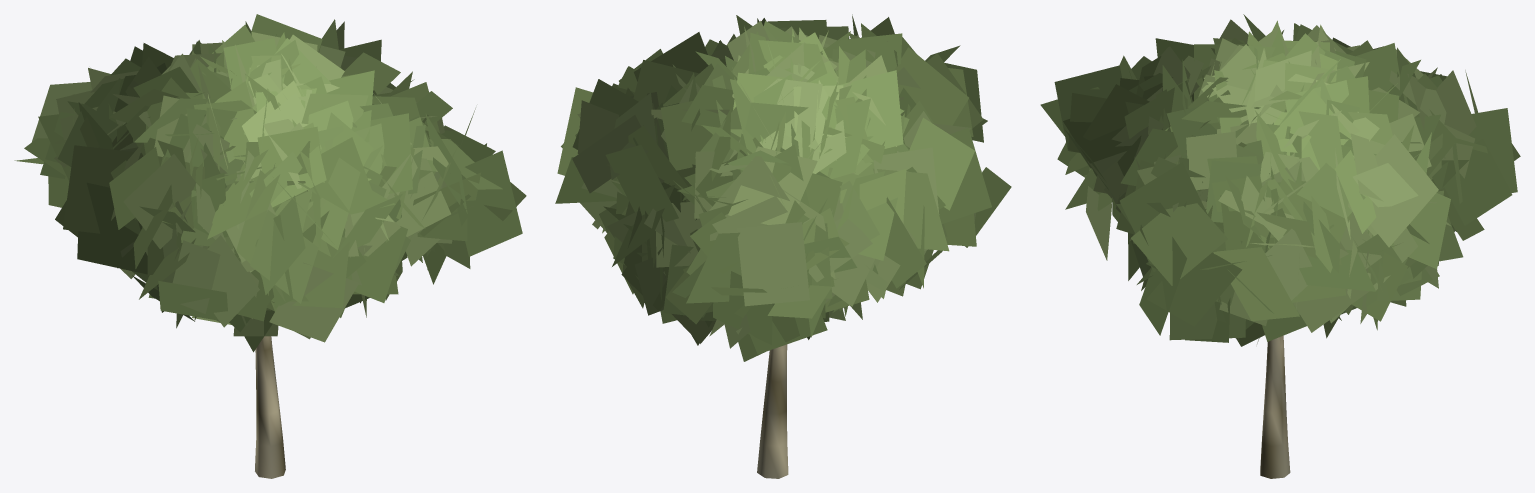
3 views of the same model, side by side, from view 1: azimuth 30°, elevation 25°; view 2: azimuth 150°, elevation 25°; view 3: azimuth 270°, elevation 25° (orthographic). The views are drawn at different scales.
Visible parts, largest first — view 1: plane_1; view 2: plane_1; view 3: plane_1.
Boxes of the visible parts, box(x1,y1,x2,y2) form: plane_1: box(14, 14, 526, 478); plane_1: box(555, 14, 1011, 478); plane_1: box(1040, 14, 1520, 478).
Size of the model in its own units: 0.9693 by 1 by 1.
